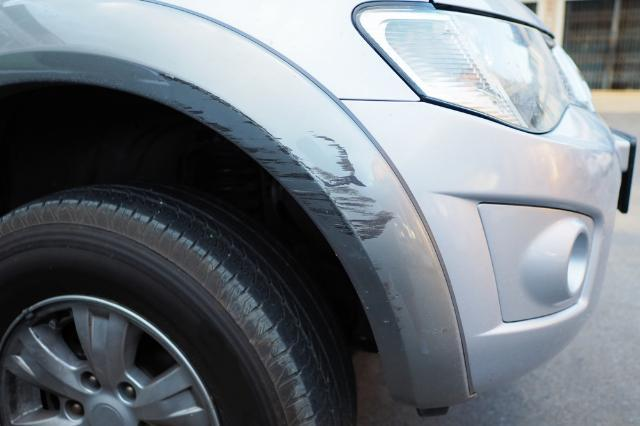rub: (152, 68, 397, 245)
